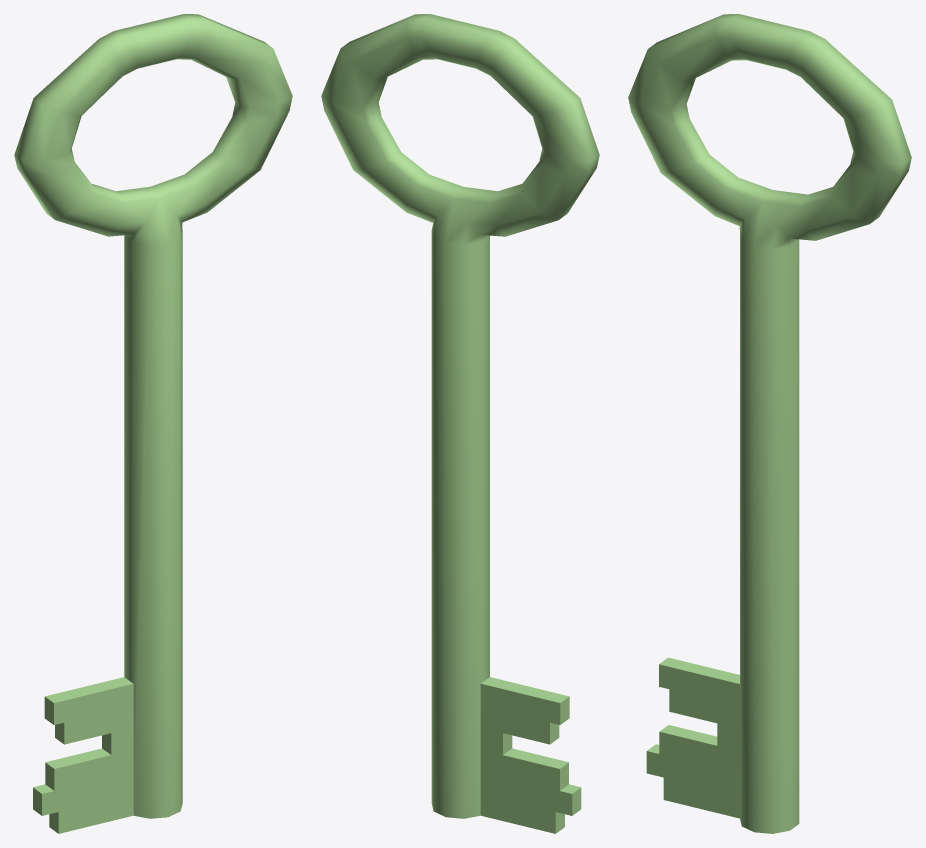
File: Keys_15.FBX
The picture shows the model from 3 angles, left to right: view 1: azimuth 30°, elevation 25°; view 2: azimuth 150°, elevation 25°; view 3: azimuth 330°, elevation 25°; orthographic projection.
Parts seen in each view (by area): view 1: Keys_15; view 2: Keys_15; view 3: Keys_15.
Boxes of the visible parts, bbox=[...] form: Keys_15: bbox=[14, 14, 292, 833]; Keys_15: bbox=[321, 14, 599, 833]; Keys_15: bbox=[628, 14, 911, 833].
Bounding box in the file's own units: 1.18 × 3.26 × 0.2251.
